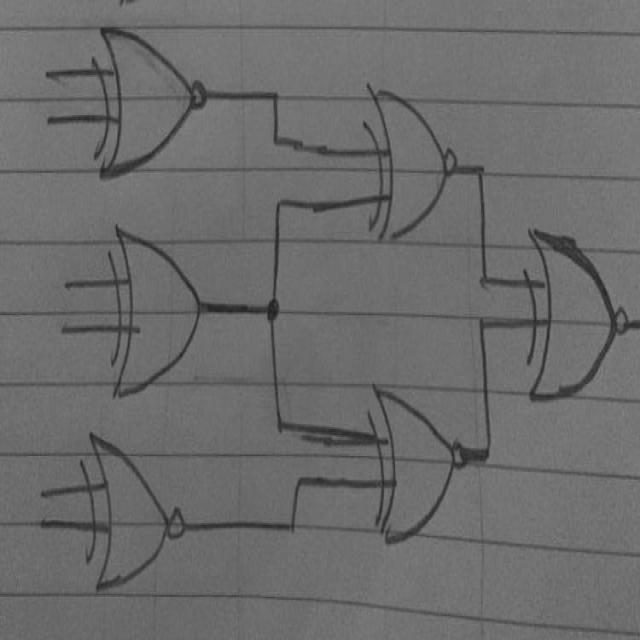XNOR: (516, 193, 632, 425), (350, 49, 460, 265), (84, 7, 208, 192), (355, 367, 475, 557), (73, 422, 192, 606)
XOR: (100, 207, 208, 408)
